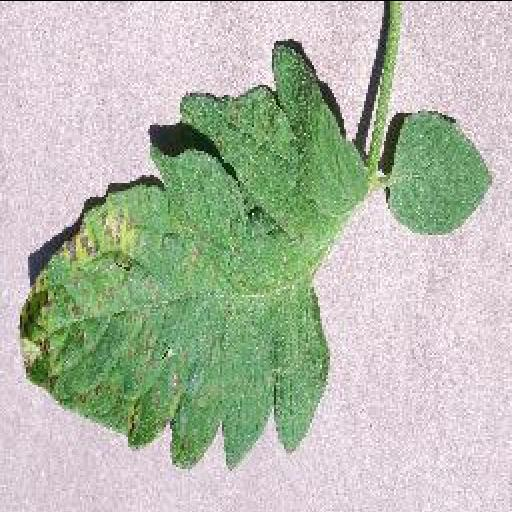disease_tomato: (14, 40, 362, 470)
